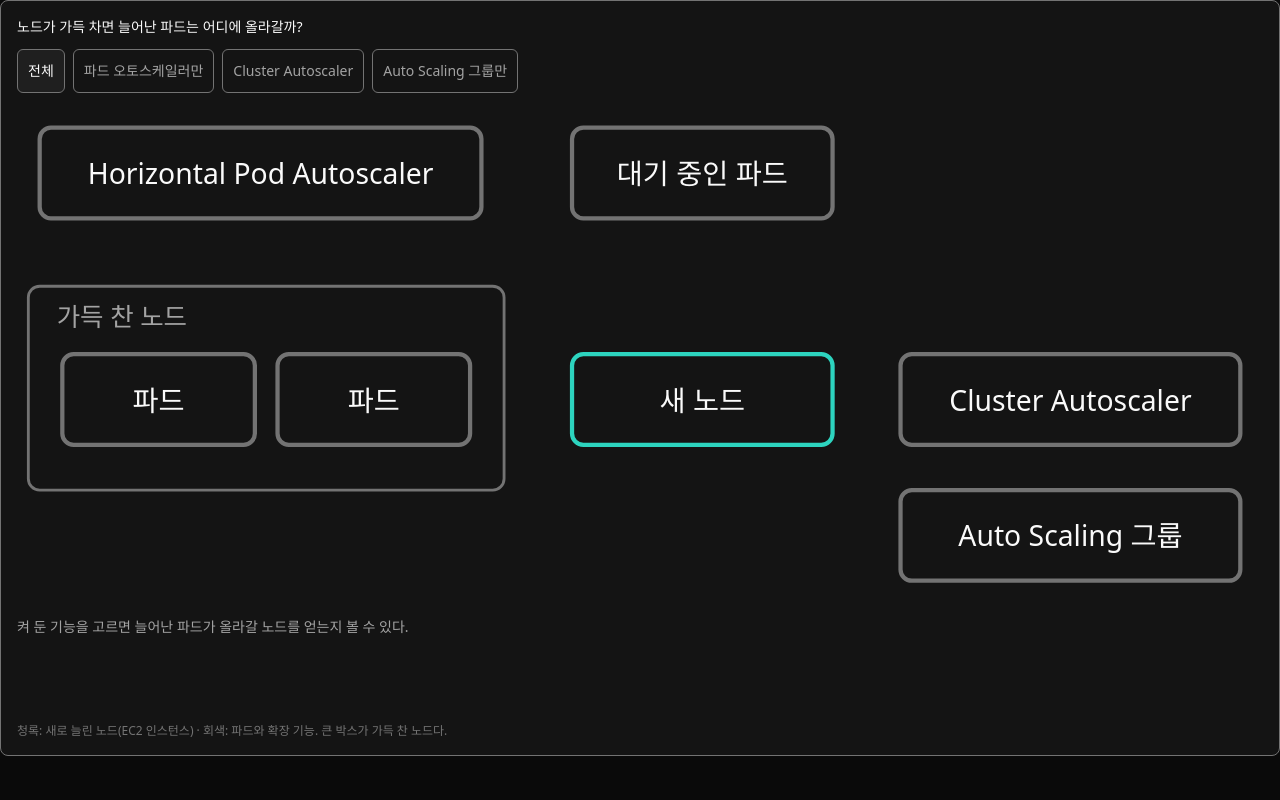
EksScalingDiagram › 장면을 바꾸면 이전 경로·곁말이 사라지고 전체를 누르면 초기 상태로 돌아온다
Click the button "파드 오토스케일러만": (144, 71) 73,49 -> 214,93
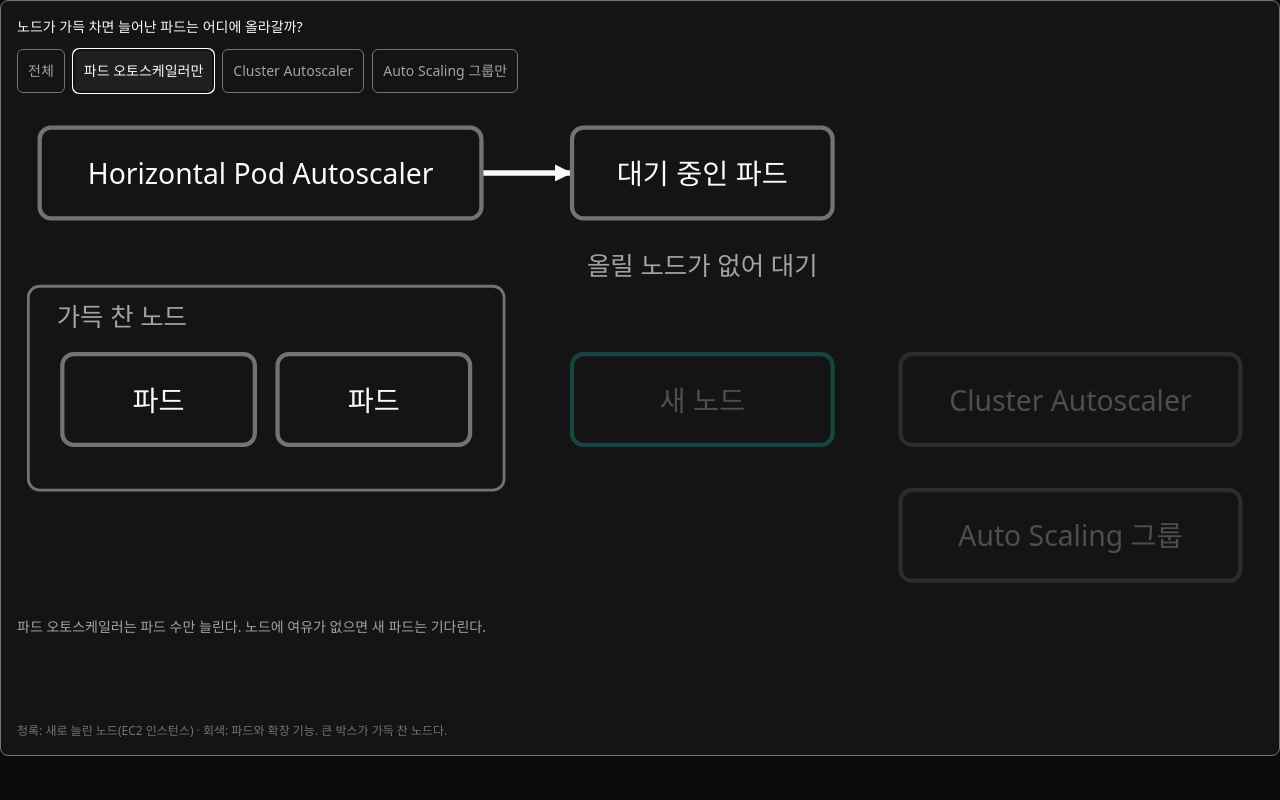
Click the button "Cluster Autoscaler": (293, 71) 222,49 -> 364,93
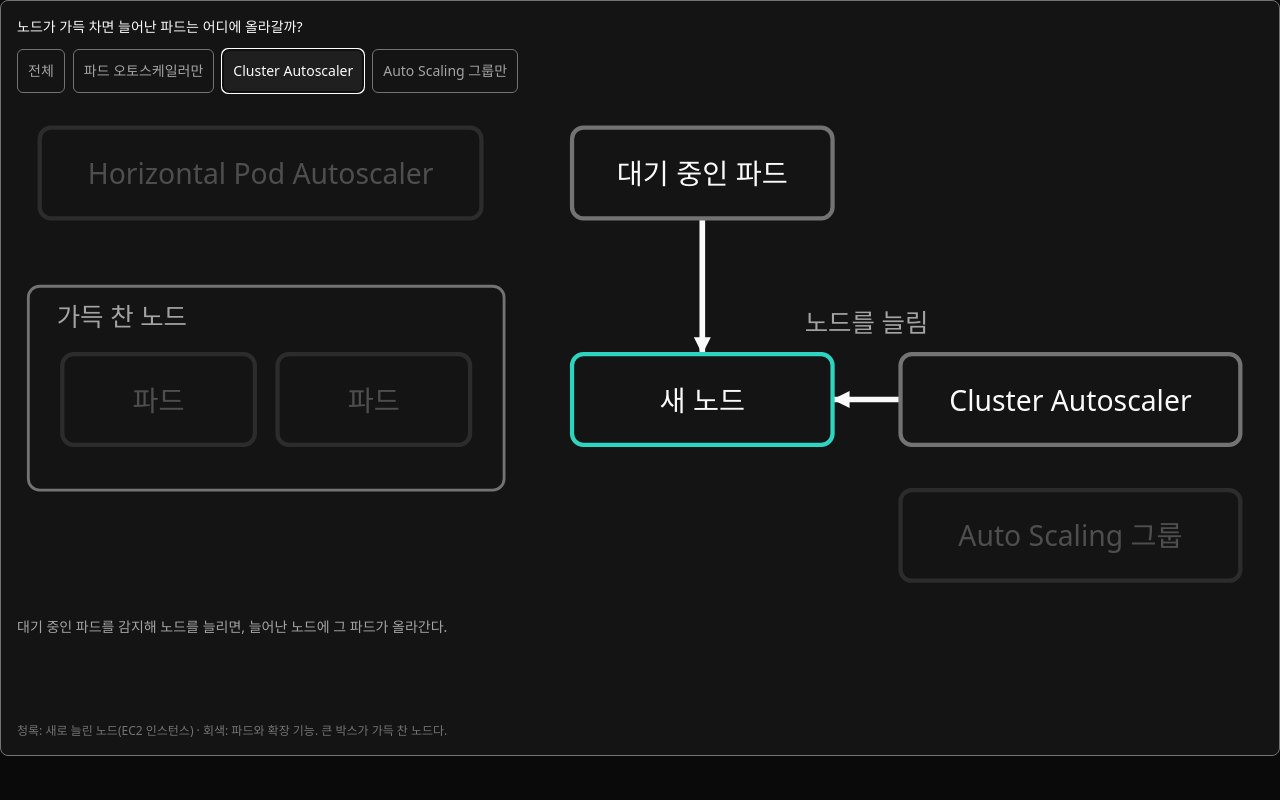
Click the button "Auto Scaling 그룹만": (445, 71) 372,49 -> 518,93
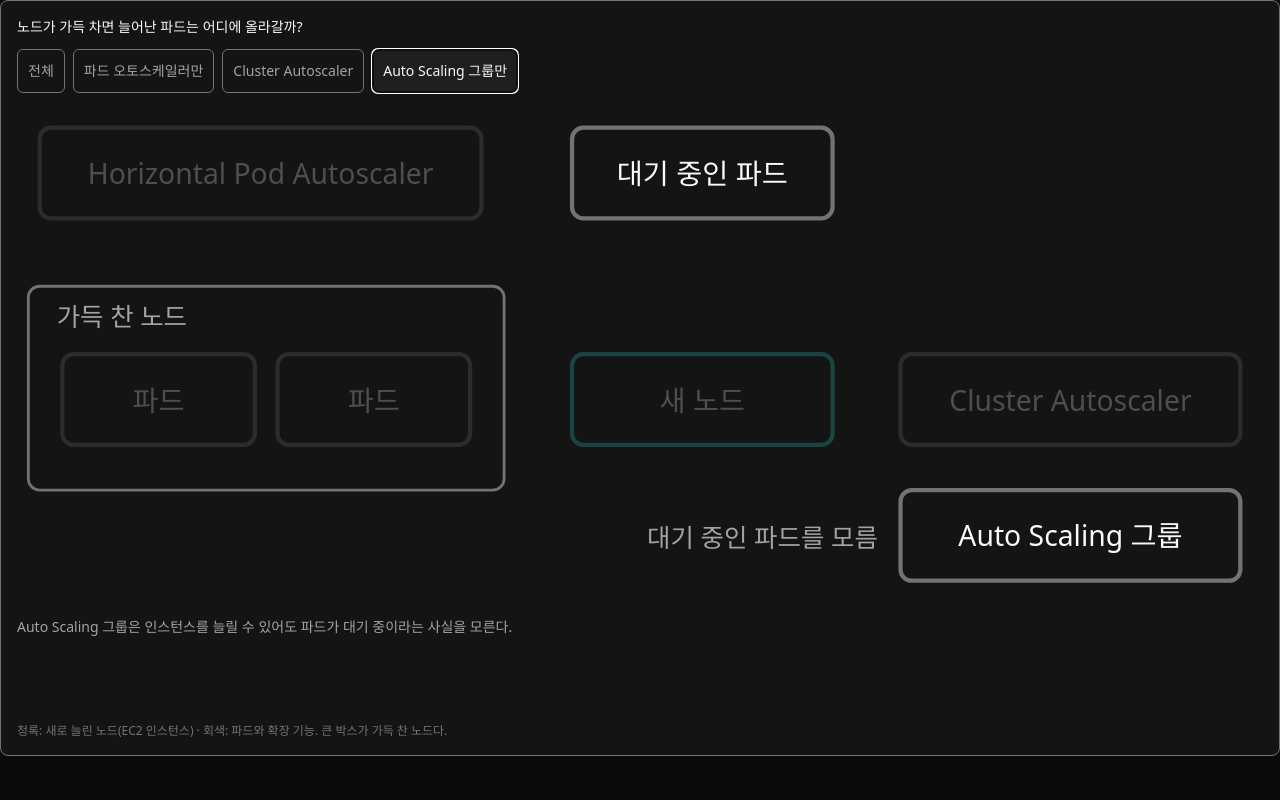
Click the button "파드 오토스케일러만": (144, 71) 73,49 -> 214,93
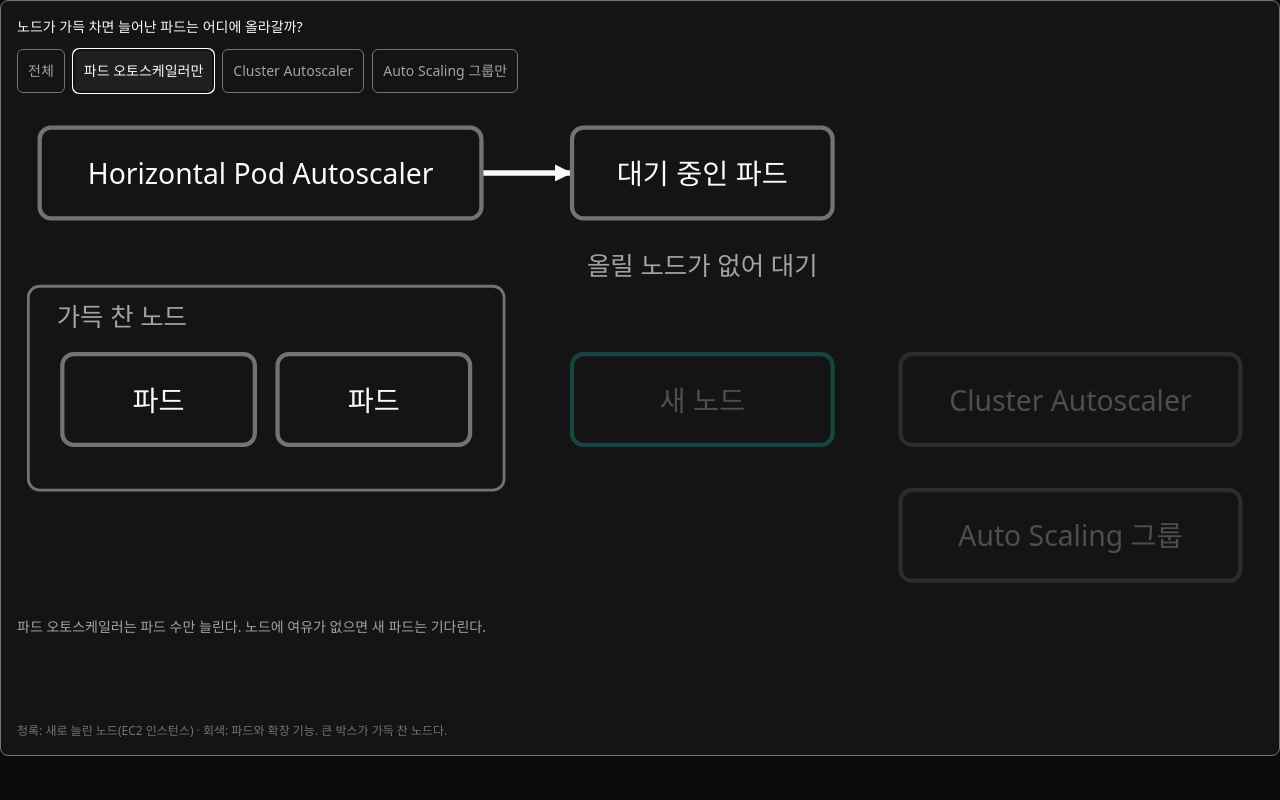
Click the button "전체": (41, 71) 17,49 -> 65,93
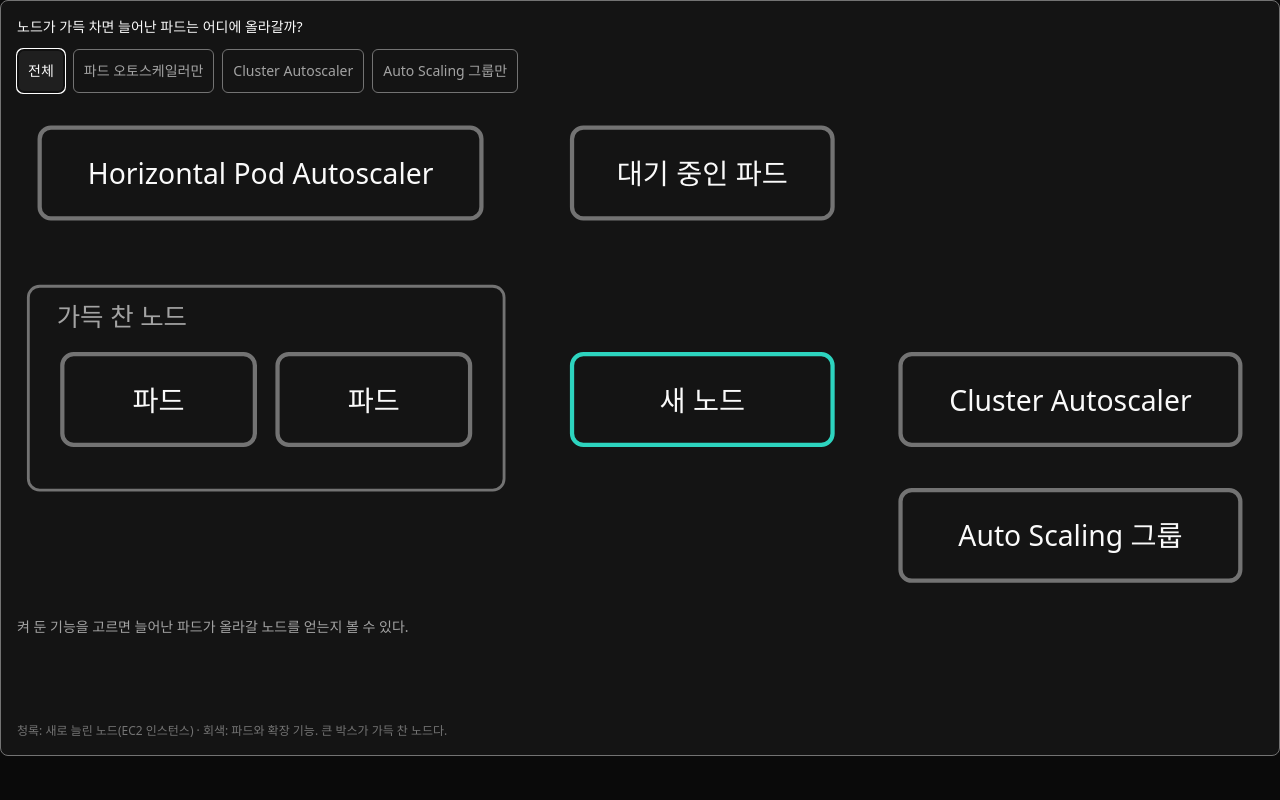
Result: the text "켜 둔 기능을 고르면 늘어난 파드가 올라갈 노드를 얻는지 볼 수 있다." is shown at 17,617 -> 409,636
